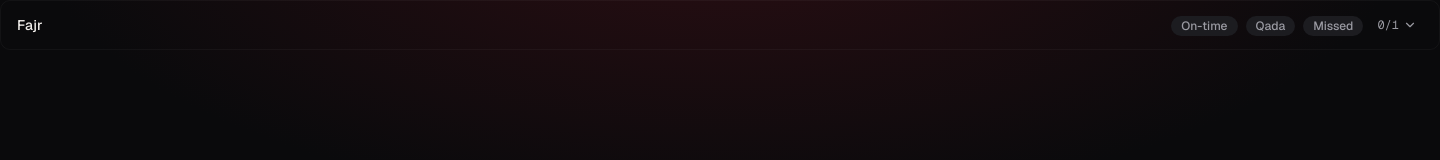
it: PrayerRow — the sunnah list opened by marking on time closes itself › a list the user opened by hand (row toggle) stays open
Click the button named "sunnah for fajr". click: (1397, 25)
box: 1371,13 -> 1423,37
Wait 10000 ms
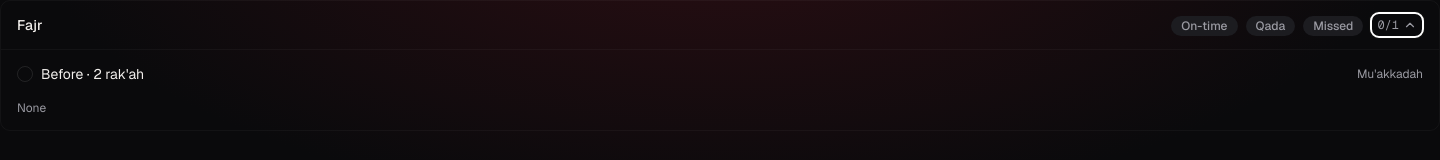
Expected: the button "Before · 2 rak'ah Mu'akkadah" is shown, 9,58 -> 1431,90
